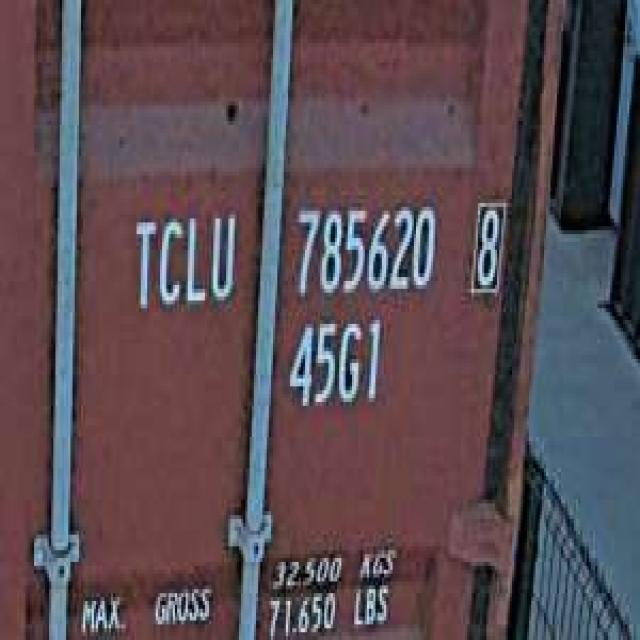dv: (465, 188, 508, 304)
owner: (128, 199, 239, 324)
serial: (288, 192, 439, 304)
size: (282, 308, 384, 422)
